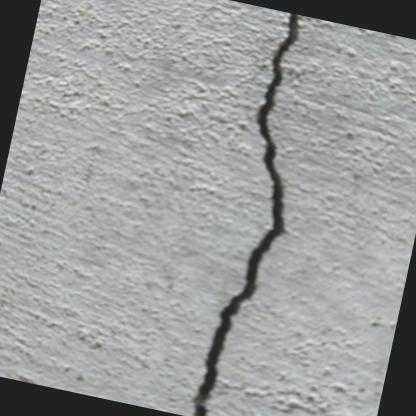crack: (193, 12, 299, 416)
